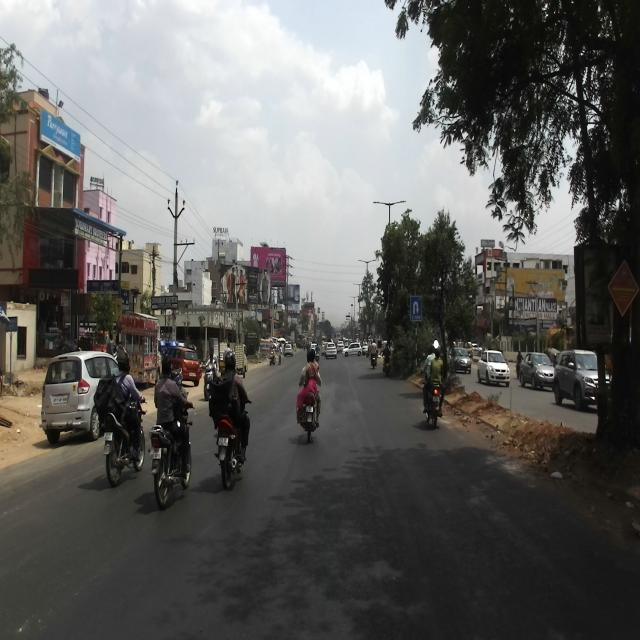car: (39, 350, 119, 444), (551, 349, 611, 411), (519, 348, 553, 391), (477, 347, 511, 388)
motorcycle: (147, 401, 195, 510), (102, 396, 146, 488), (213, 399, 252, 490), (296, 372, 322, 444), (421, 366, 444, 428)
